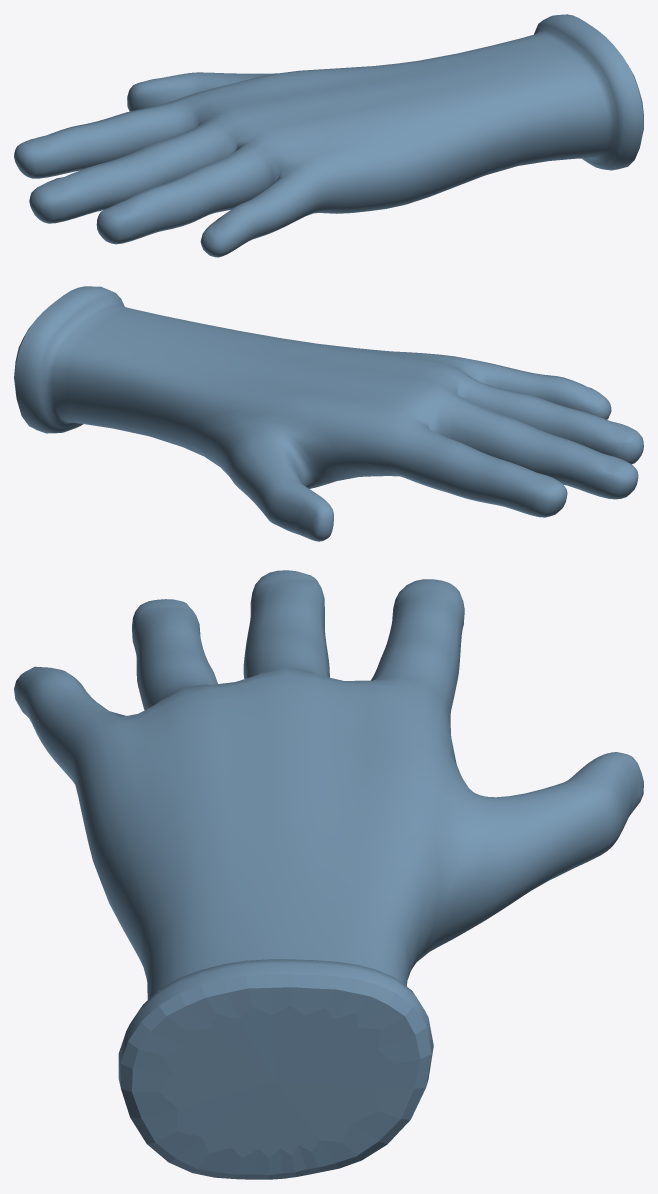
File: main_player.fbx
3 renders of one model, top to bottom at view 1: azimuth 30°, elevation 25°; view 2: azimuth 150°, elevation 25°; view 3: azimuth 270°, elevation 25°, orthographic. The views are drawn at different scales.
Visible parts, largest first — view 1: Cube.005; view 2: Cube.005; view 3: Cube.005.
Part boxes in pixels (x1,y1,x2,y2): Cube.005: [14, 14, 643, 257]; Cube.005: [14, 286, 643, 541]; Cube.005: [14, 570, 643, 1179].
Bounding box in the file's own units: 23.86 × 5.05 × 13.68.
